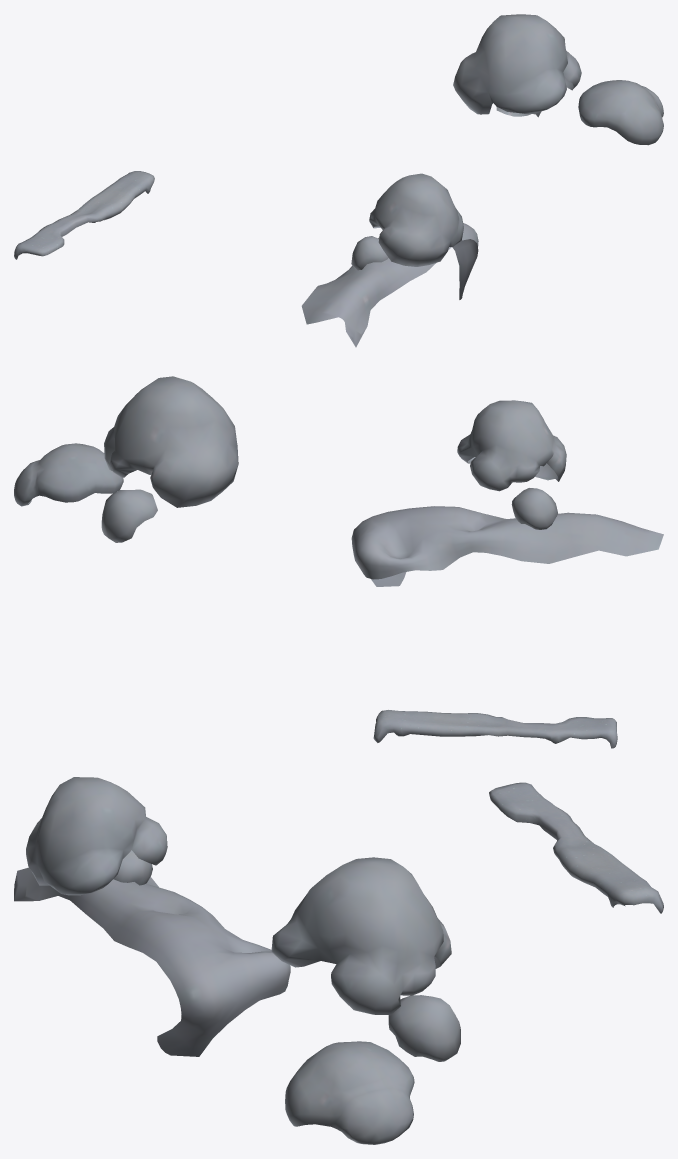
File: pref_sm_beach_plantsnowL02_lv3.fbx
3 views of the same model, one above another, from view 1: azimuth 30°, elevation 25°; view 2: azimuth 150°, elevation 25°; view 3: azimuth 270°, elevation 25° (orthographic). The views are drawn at different scales.
Visible parts, largest first — view 1: pref_sm_beach_plantsnowL02_lv3; view 2: pref_sm_beach_plantsnowL02_lv3; view 3: pref_sm_beach_plantsnowL02_lv3.
Part boxes in pixels (bbox=[...]): pref_sm_beach_plantsnowL02_lv3: bbox=[14, 14, 663, 347]; pref_sm_beach_plantsnowL02_lv3: bbox=[14, 376, 663, 748]; pref_sm_beach_plantsnowL02_lv3: bbox=[14, 777, 663, 1144].
Bounding box in the file's own units: 19.93 × 6.45 × 13.53.
